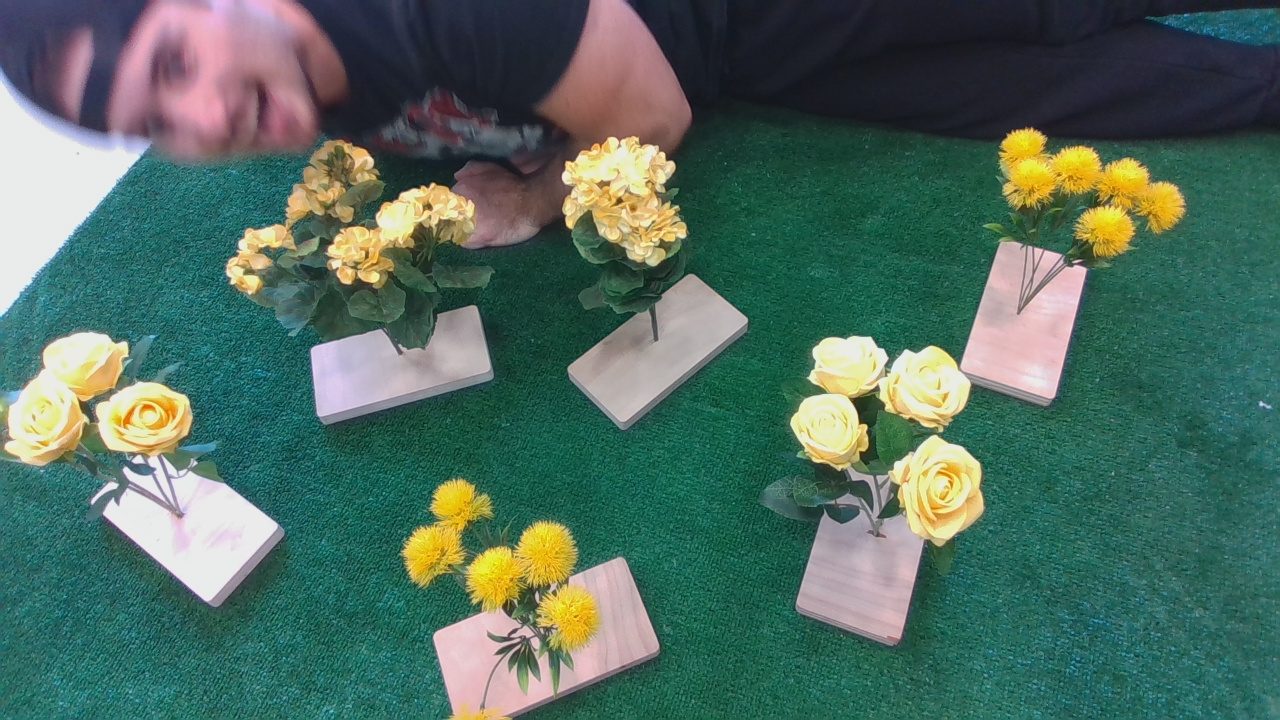dandelion: (377, 484, 613, 680), (982, 113, 1196, 283)
geranium: (218, 143, 499, 339), (564, 137, 701, 324)
rose: (759, 329, 1005, 563), (5, 335, 238, 487)
